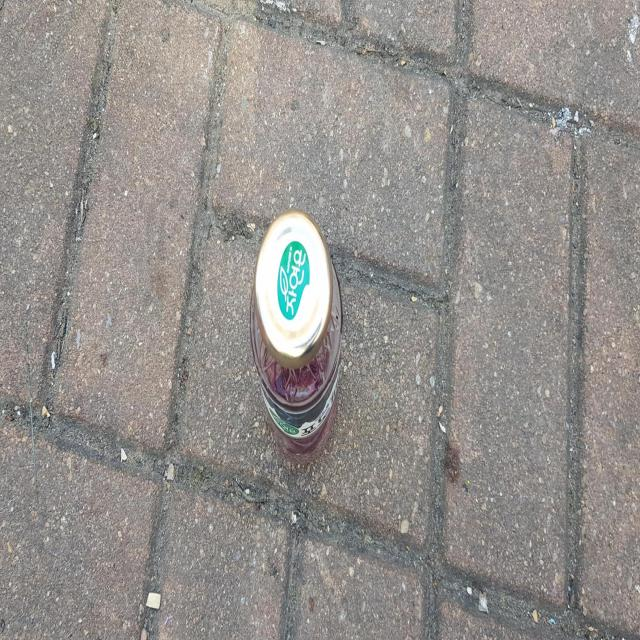glass: (250, 209, 343, 463)
